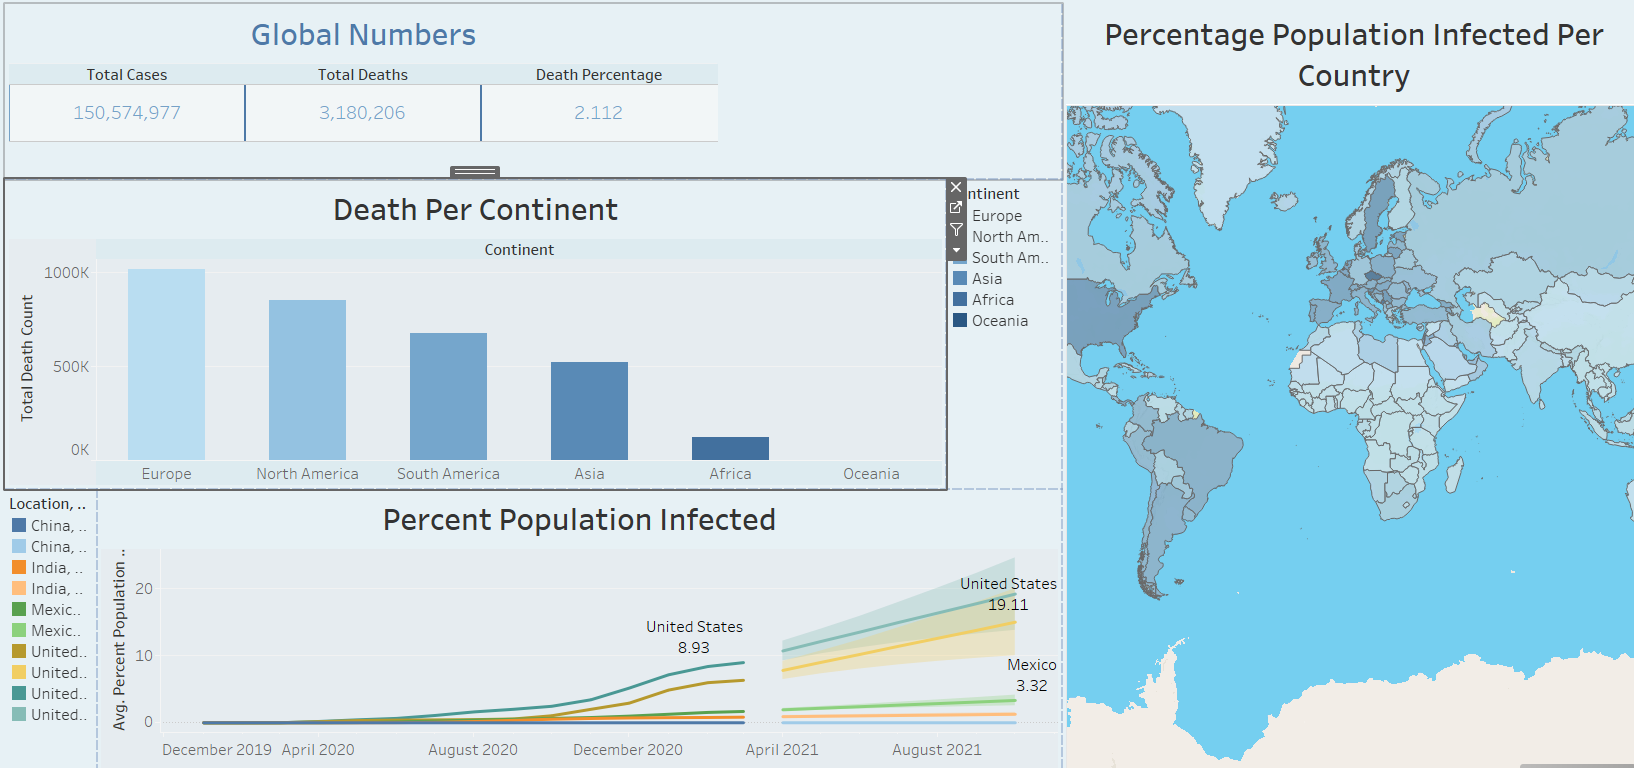

The page's visual inventory and layout, read from the dashboard file:
{"tool":"tableau","page":{"name":"Dashboard 1","canvas":[1000,1000],"units":"permille","ordinal":0},"visuals":[{"type":"worksheet","title":"Sheet 1","mark":"Automatic","box":[4.8,9.9,637.9,215.8]},{"type":"worksheet","title":"Sheet 3","mark":"Automatic","box":[642.7,9.9,352.4,980.3]},{"type":"worksheet","title":"Sheet 2","mark":"Automatic","rows":["TotalDeathCount"],"cols":["location"],"box":[4.8,225.7,567.9,382.2]},{"type":"legend","title":"Sheet 2","param":"[federated.0jcu2jj0wtg75l1euaflw17tawkf].[none:location:nk]","box":[572.7,225.7,70,382.2]},{"type":"legend","title":"Sheet 4","param":"[federated.0oengga1eh97ds1gdfll30hfijp9].[none:Location:nk]\n[federated.0oengga1e","box":[4.8,607.9,55.5,382.2]},{"type":"worksheet","title":"Sheet 4","mark":"Automatic","rows":["PercentPopulationInfected"],"cols":["date"],"box":[60.4,607.9,582.4,382.2]}]}

Visuals, with their boxes on the dashboard's canvas, which has no fixed pixel size, in thousandths of its width and height (x1, y1, x2, y2). These are canvas units, not pixel positions in the 1634x768 screenshot, which may show the page scaled, cropped or inside an application window:
"Sheet 1" worksheet: x1=5 y1=10 x2=643 y2=226
"Sheet 3" worksheet: x1=643 y1=10 x2=995 y2=990
"Sheet 2" worksheet: x1=5 y1=226 x2=573 y2=608
"Sheet 2" legend: x1=573 y1=226 x2=643 y2=608
"Sheet 4" legend: x1=5 y1=608 x2=60 y2=990
"Sheet 4" worksheet: x1=60 y1=608 x2=643 y2=990
